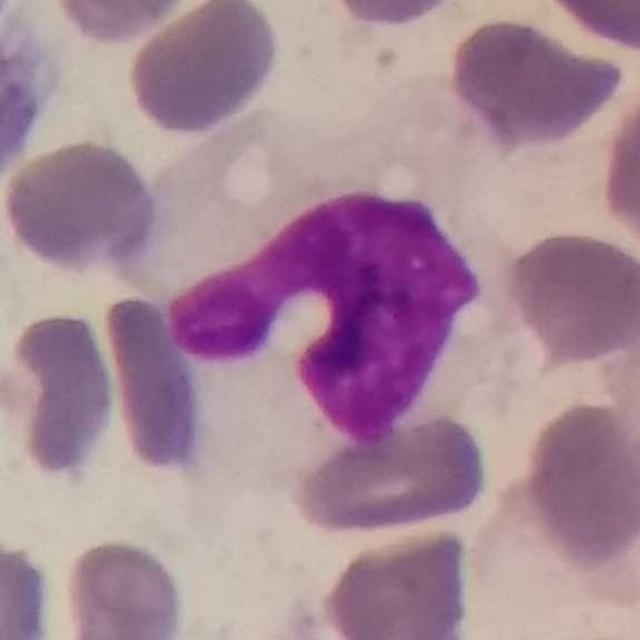mono: (81, 88, 527, 543)
